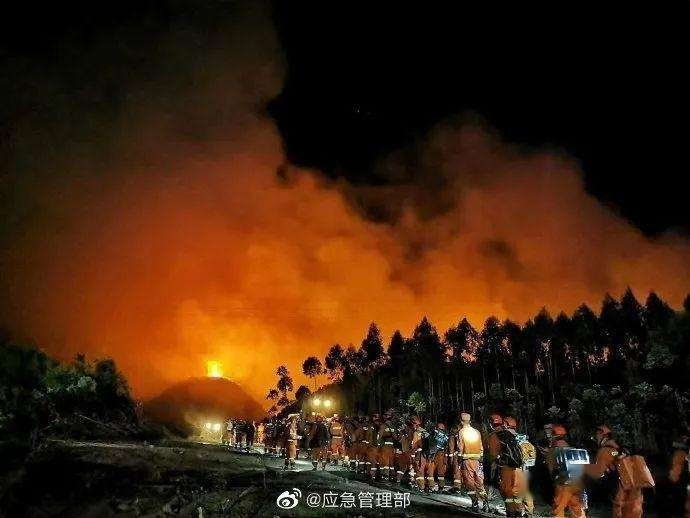fire: (197, 348, 240, 385)
